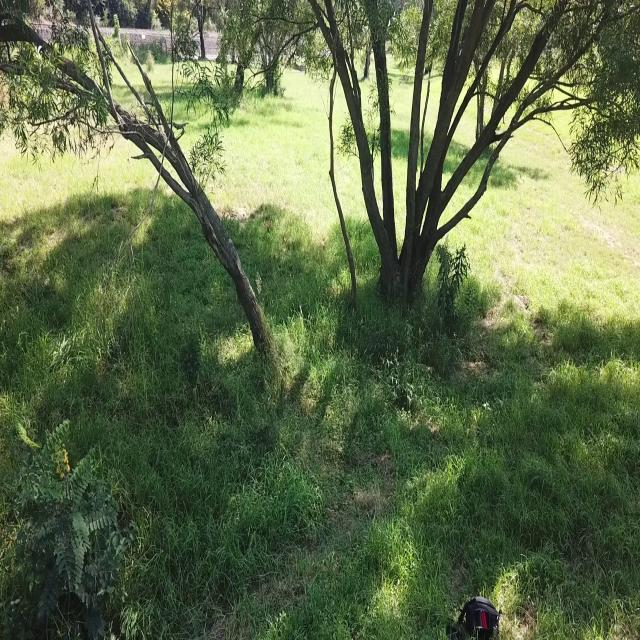Mysore-Thorn-Weed: (7, 419, 133, 640)
